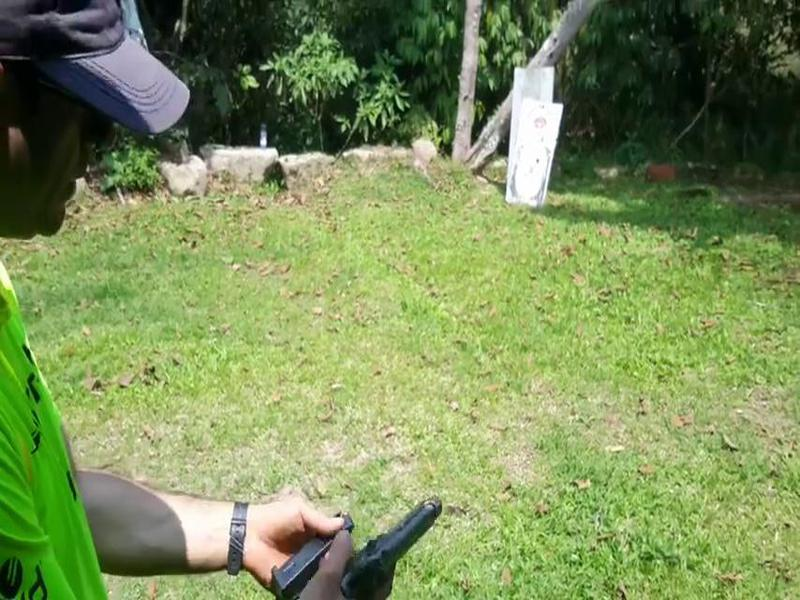Pistola: (339, 484, 456, 594)
